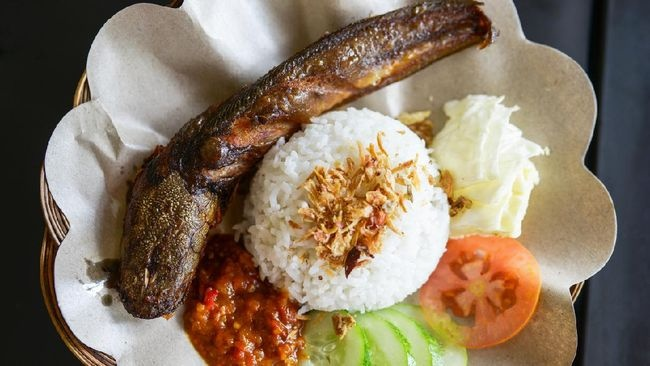pecel_lele: (102, 70, 258, 318)
